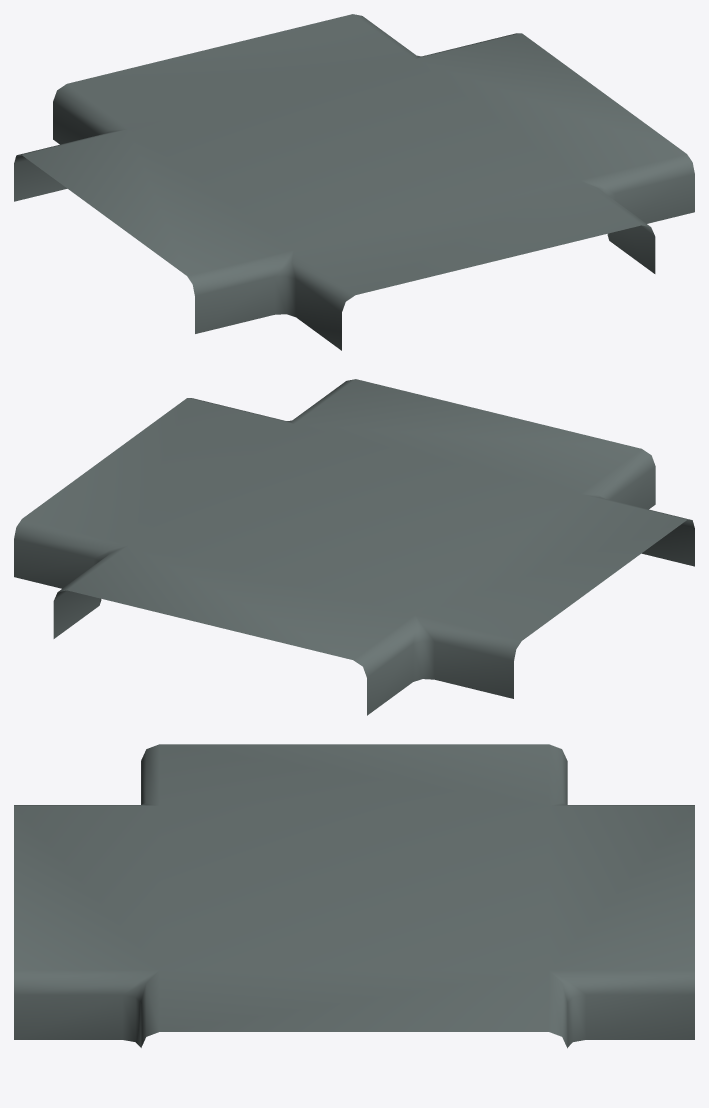
File: road_01_cross_shape.fbx
The picture shows the model from 3 angles, top to bottom: view 1: azimuth 30°, elevation 25°; view 2: azimuth 150°, elevation 25°; view 3: azimuth 270°, elevation 25°; orthographic projection. The views are drawn at different scales.
Visible parts, largest first — view 1: road_01_cross_shape; view 2: road_01_cross_shape; view 3: road_01_cross_shape.
Part boxes in pixels (x1=…): road_01_cross_shape: x1=14, y1=14, x2=694, y2=350; road_01_cross_shape: x1=14, y1=379, x2=694, y2=715; road_01_cross_shape: x1=14, y1=744, x2=694, y2=1048.
Bounding box in the file's own units: 19.99 × 2 × 20.
